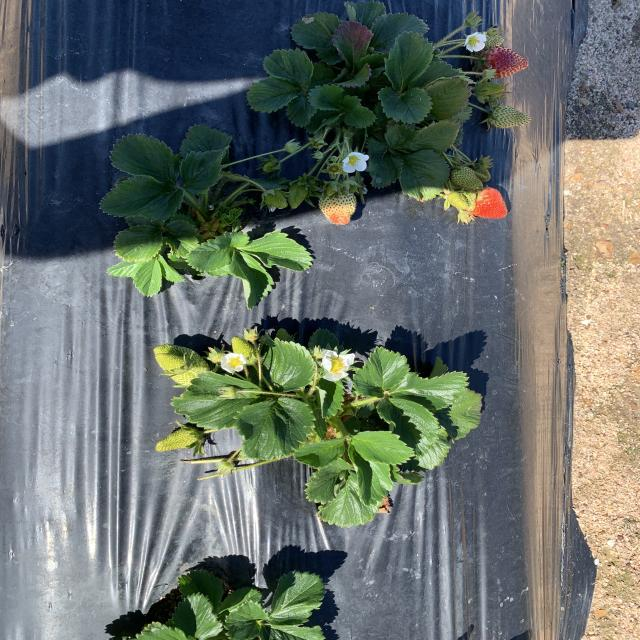unripe: (478, 44, 531, 80), (461, 183, 509, 220)
